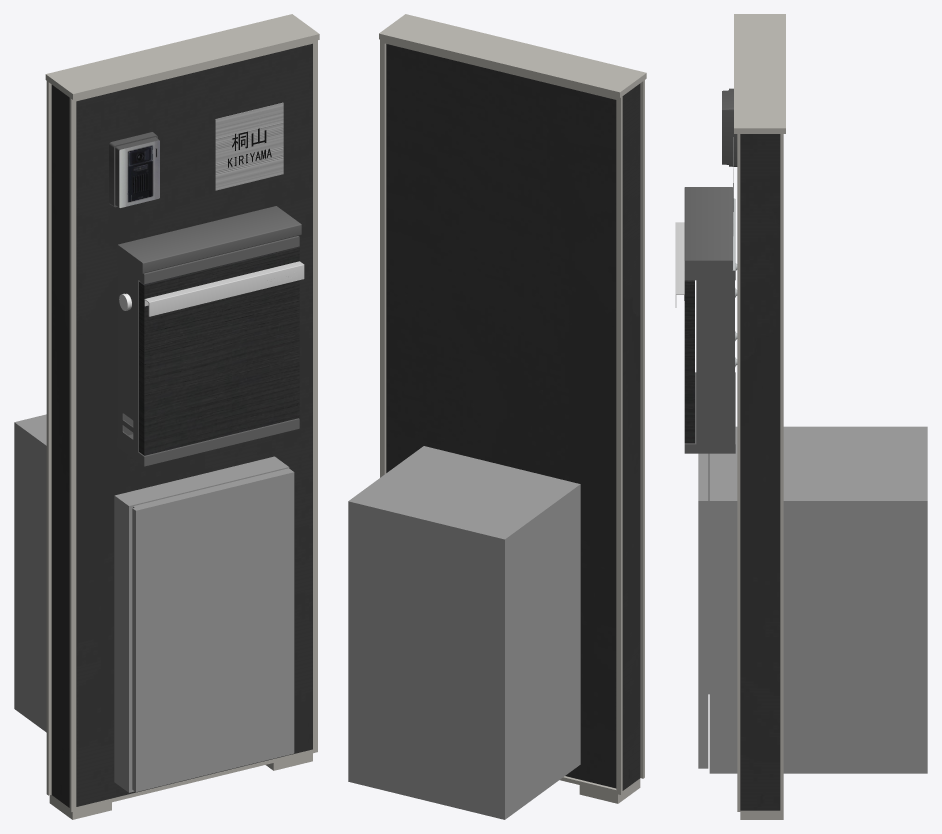
File: de-boxmonchu_matblack.fbx
3 views of the same model, side by side, from view 1: azimuth 30°, elevation 25°; view 2: azimuth 150°, elevation 25°; view 3: azimuth 270°, elevation 25° (orthographic). The views are drawn at different scales.
Parts seen in each view (by area): view 1: matteblack; view 2: matteblack; view 3: matteblack.
Boxes of the visible parts, bbox=[...] form: matteblack: bbox=[14, 14, 319, 819]; matteblack: bbox=[348, 14, 646, 819]; matteblack: bbox=[675, 14, 927, 819].
Bounding box in the file's own units: 53.1 × 150 × 49.46.
Materials: 14 (4 with a texture image).
